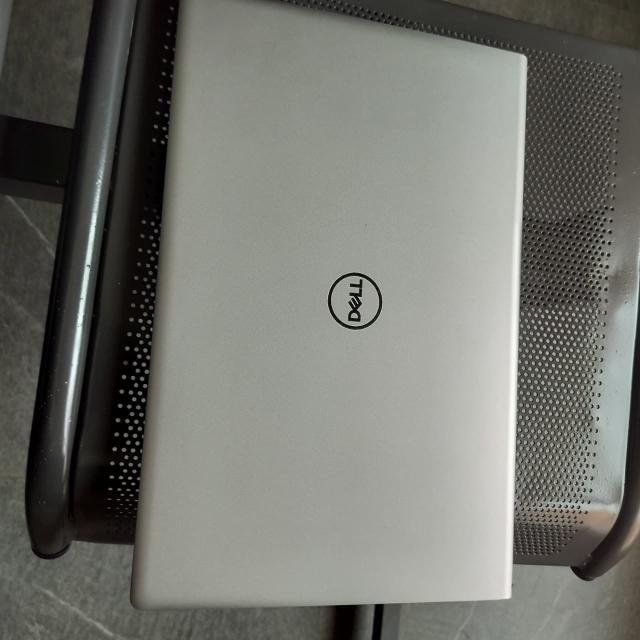laptop: (99, 0, 556, 620)
